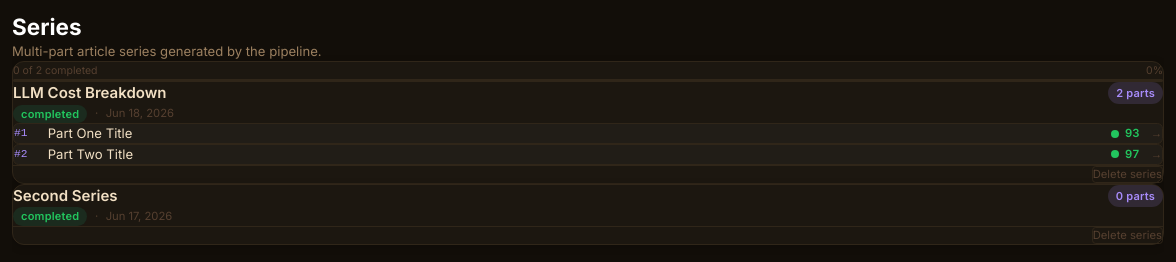
Test: SeriesPage › deleted series card disappears from the list
Click the button with test id "delete-series-series-abc" at coordinates (1127, 174), box [1092,166,1163,183]
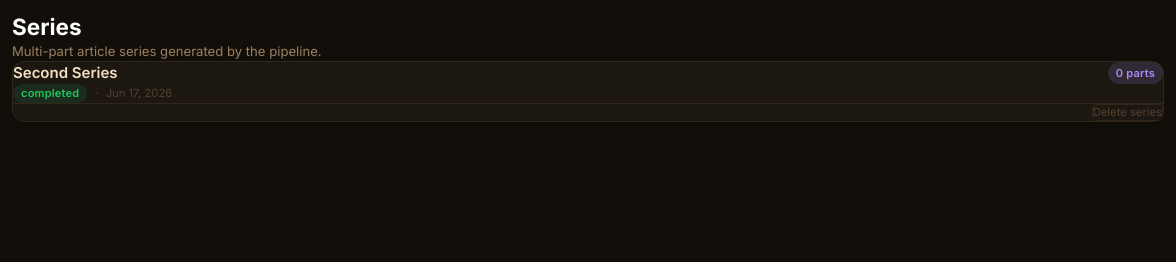
Expected: the element with test id "series-card-series-xyz" is shown, [12,61,1164,122]
Result: the element with test id "series-card-series-abc" is gone
